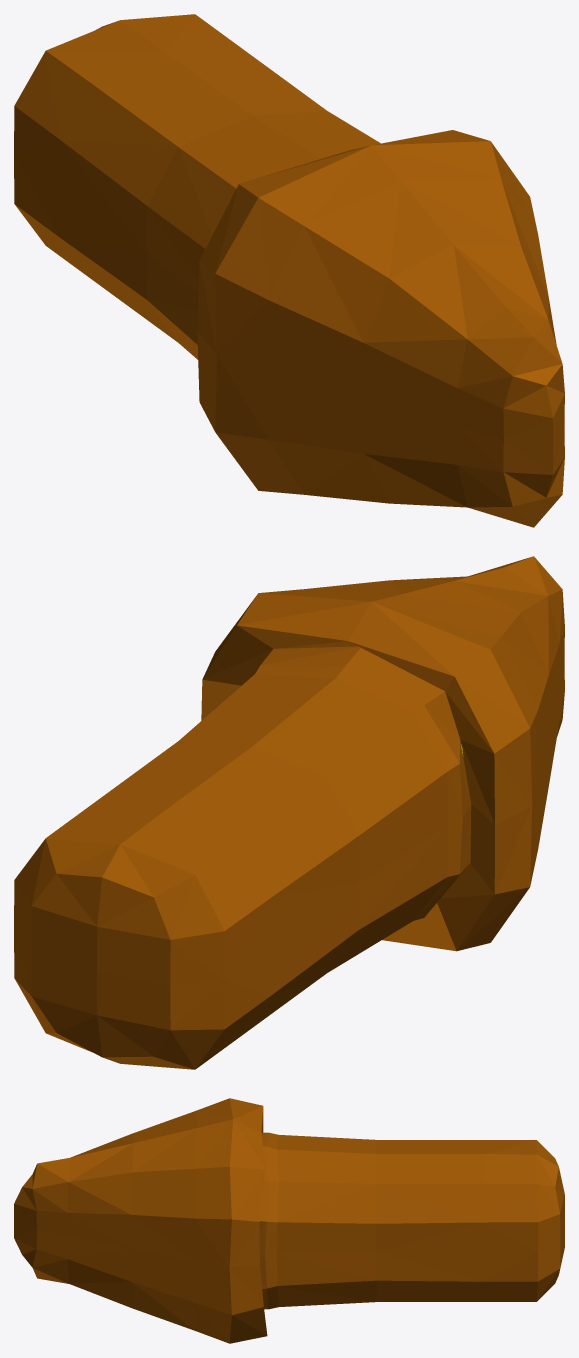
Rendered from arrow.obj.
3 renders of one model, top to bottom at view 1: azimuth 30°, elevation 25°; view 2: azimuth 150°, elevation 25°; view 3: azimuth 270°, elevation 25°, orthographic. The views are drawn at different scales.
Parts seen in each view (by area): view 1: arrow_arrow_Cube1; view 2: arrow_arrow_Cube1; view 3: arrow_arrow_Cube1.
Boxes of the visible parts, left/top/right/bottom form: arrow_arrow_Cube1: left=14, top=14, right=564, bottom=527; arrow_arrow_Cube1: left=14, top=556, right=564, bottom=1069; arrow_arrow_Cube1: left=14, top=1098, right=564, bottom=1343.
Bounding box in the file's own units: 2.09 × 2.14 × 5.24.
